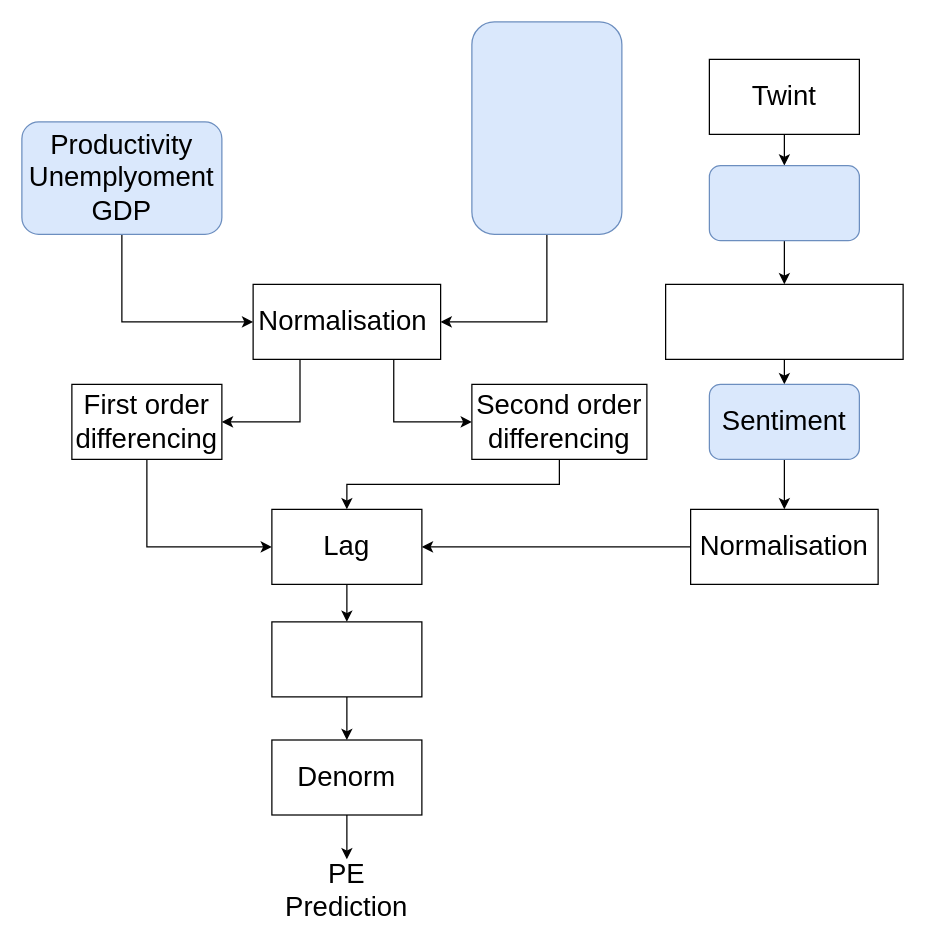
Some shapes in this 925 by 945 pixel diagram are drawn without their labels. The shapes that lost their labels are listed below. From the top down, each one's centre as x and y in pixels, then its label:
point 546,127: Interest Rate CPI CPIH Core Inflation
point 783,202: Tweet dataset
point 783,321: VADER sentiment analysis
point 346,659: Model
